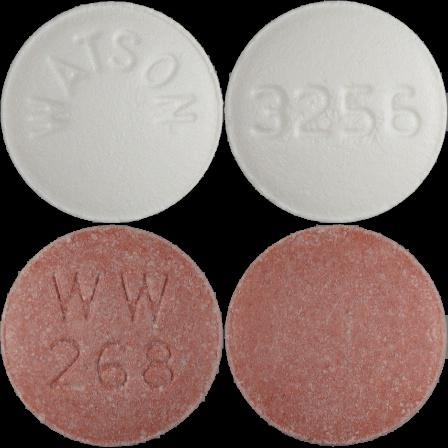68387-502: (0, 0, 224, 224)
